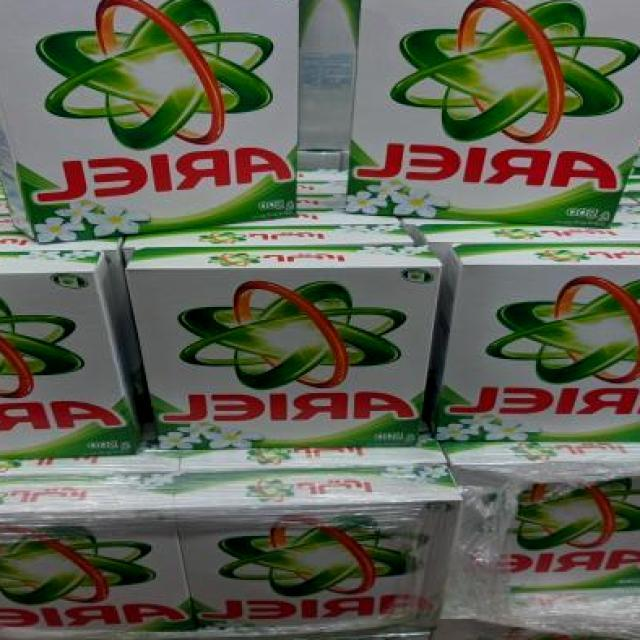Detergent: (0, 0, 302, 232), (348, 0, 640, 214), (146, 247, 444, 447), (437, 241, 640, 444), (196, 496, 458, 633), (0, 255, 129, 459), (0, 507, 177, 640), (484, 453, 640, 601)
